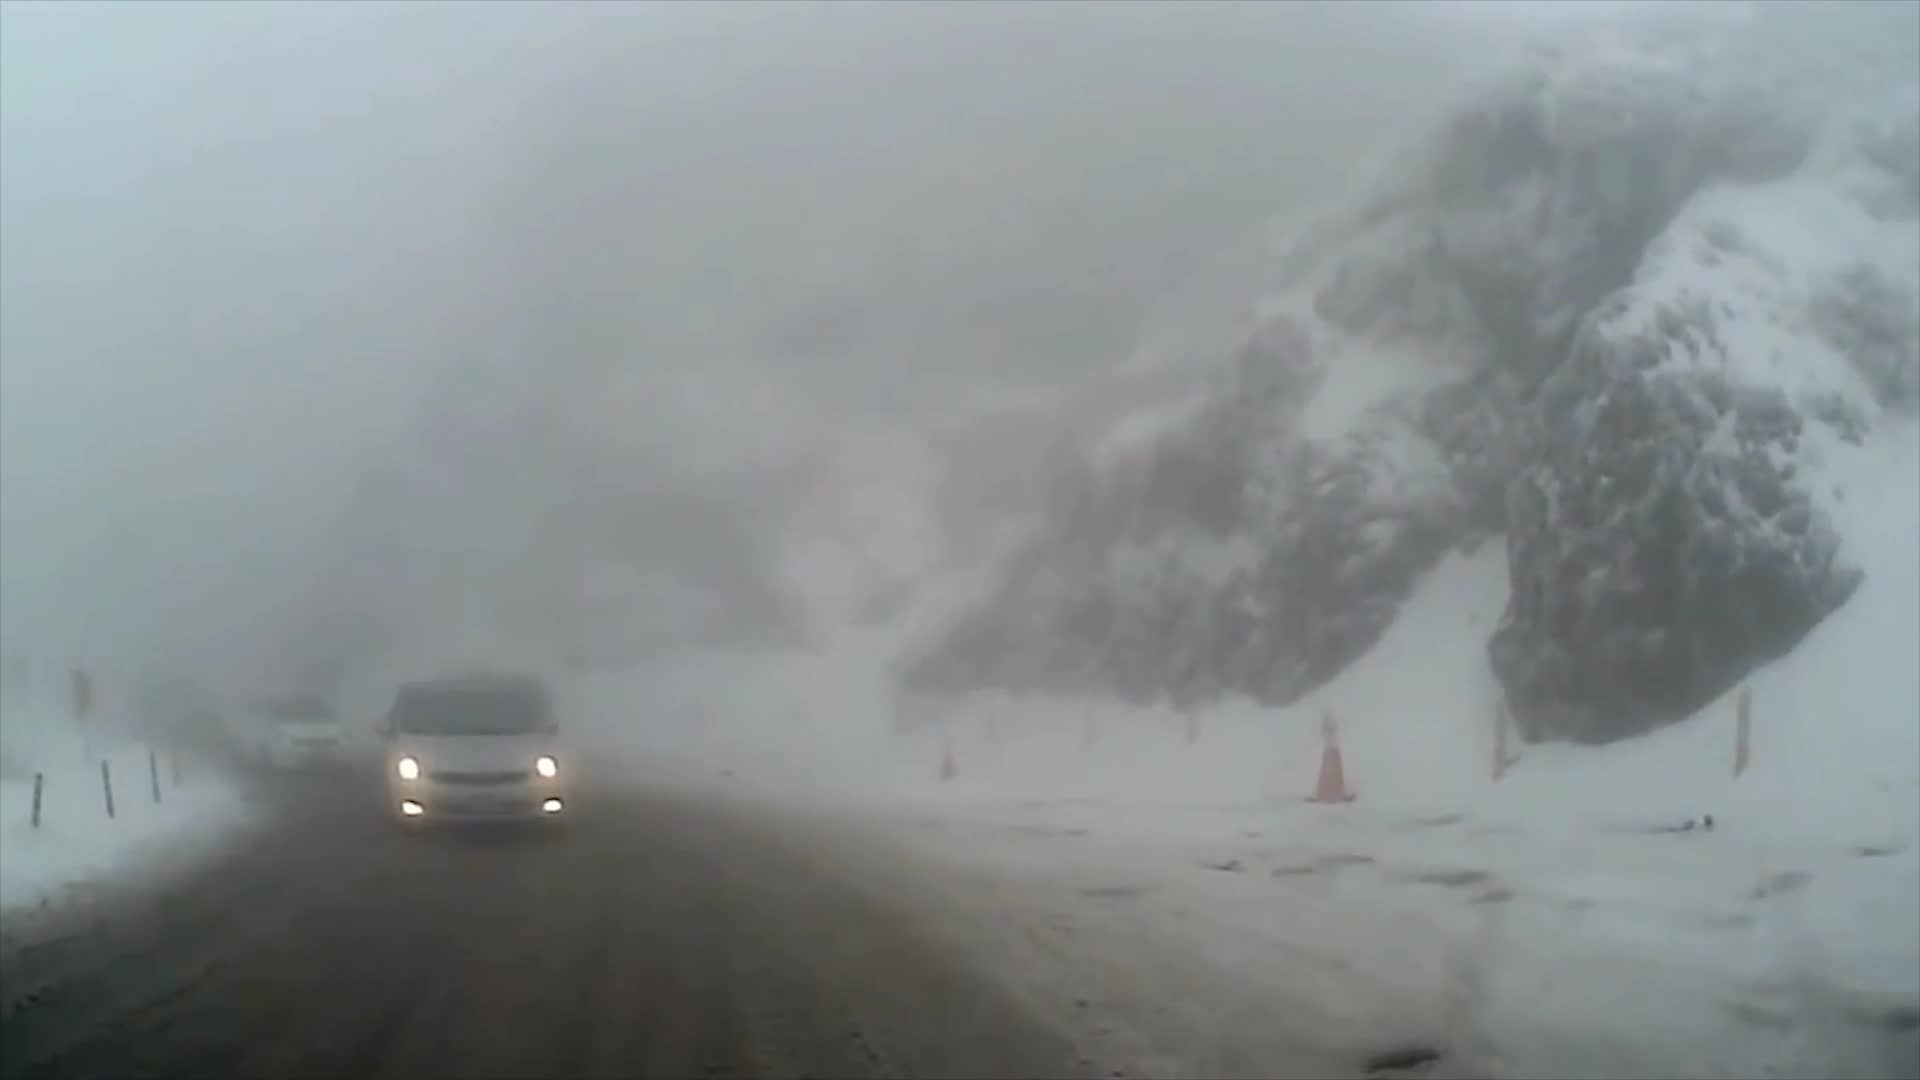vehicle: (369, 678, 563, 847)
